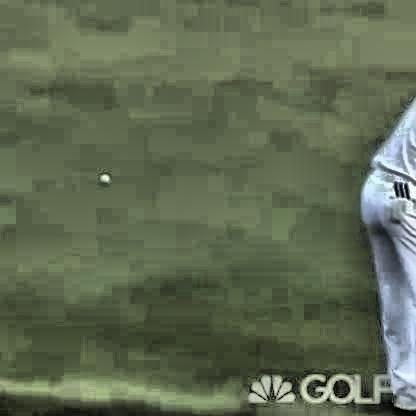golfball: (96, 173, 109, 183)
